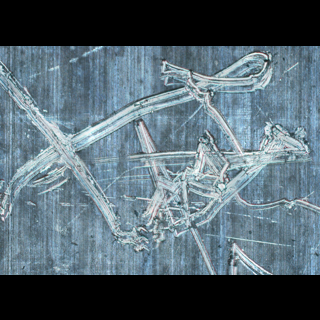d: (0, 73, 149, 244), (115, 123, 243, 253), (150, 49, 281, 112), (239, 116, 315, 171), (231, 179, 319, 214), (216, 232, 280, 274)
